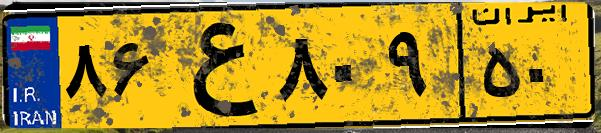0: (330, 28, 385, 110), (525, 38, 570, 115)
5: (475, 38, 525, 113)
6: (110, 28, 158, 98)
8: (270, 28, 330, 110), (57, 26, 110, 100)
9: (385, 28, 445, 110)
ع: (158, 12, 270, 120)
